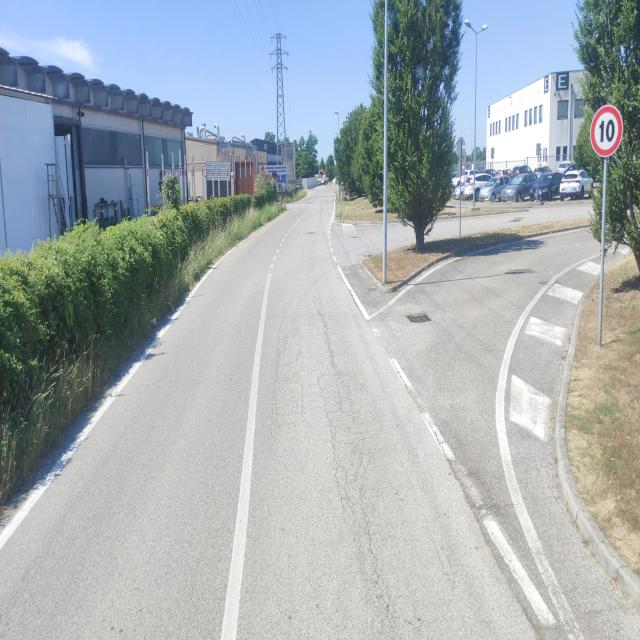car: (559, 168, 593, 201), (501, 174, 534, 202), (533, 172, 562, 200), (482, 175, 511, 200), (472, 174, 492, 200), (454, 178, 474, 201)
